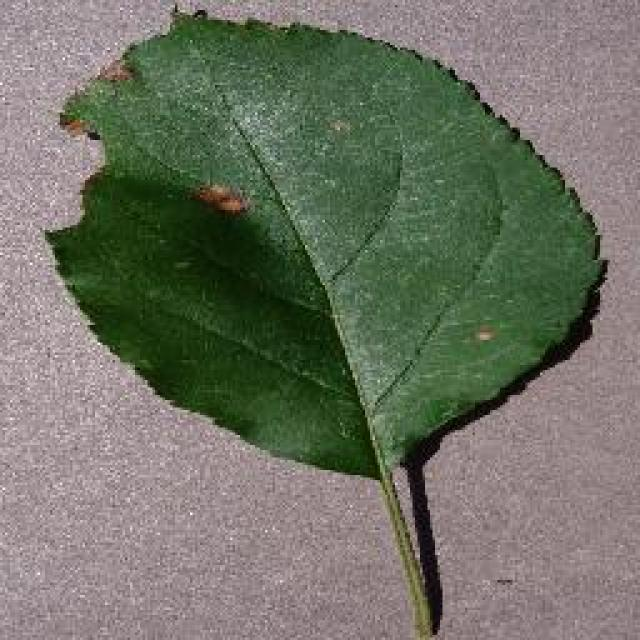apple healthy: (42, 2, 610, 638)
